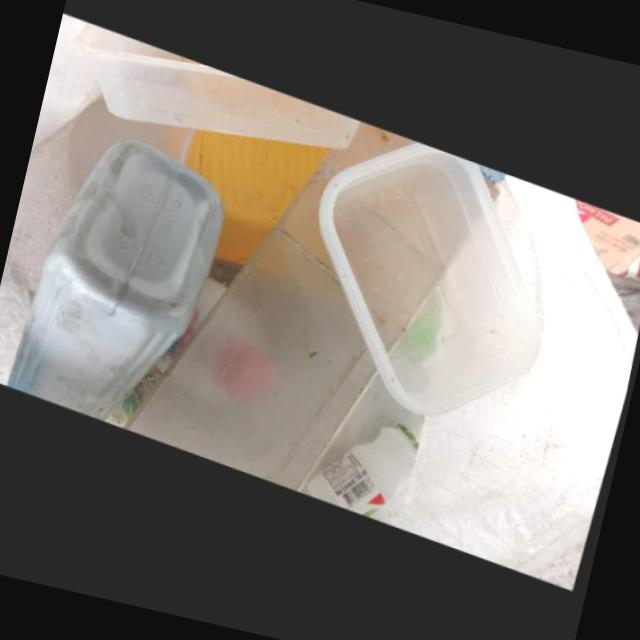hop_nhua: (4, 147, 226, 428), (320, 146, 542, 419), (75, 27, 363, 154), (307, 427, 419, 525)
